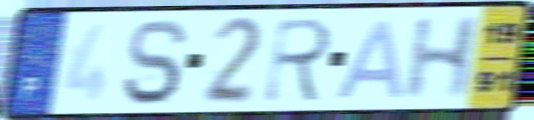2: (200, 14, 266, 109)
4: (59, 19, 114, 106)
A: (332, 17, 407, 101)
H: (399, 13, 485, 103)
R: (260, 15, 337, 105)
S: (118, 16, 192, 108)
